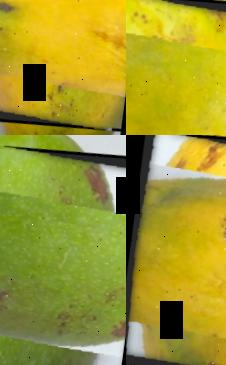PartiallyRipe: (126, 0, 226, 135)
Ripe: (126, 135, 226, 365), (0, 0, 126, 135)
Unripe: (0, 136, 126, 365)
